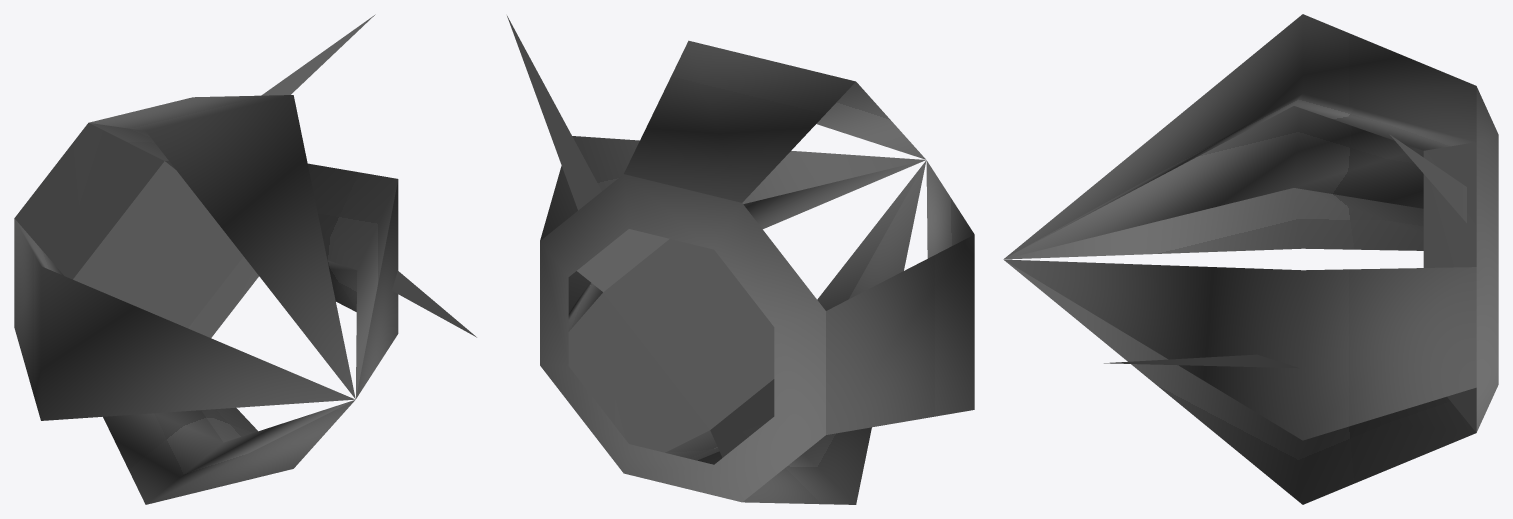
The model's file is stat_top0.glb.
3 views of the same model, side by side, from view 1: azimuth 30°, elevation 25°; view 2: azimuth 150°, elevation 25°; view 3: azimuth 270°, elevation 25° (orthographic). The views are drawn at different scales.
Visible parts, largest first — view 1: group_19; view 2: group_19; view 3: group_19.
Part boxes in pixels (x1,y1,x2,y2): group_19: [14, 14, 476, 504]; group_19: [507, 16, 974, 504]; group_19: [1003, 14, 1498, 504].
Bounding box in the file's own units: 15604 × 15791 × 16258.
2 materials, 2 textured.
